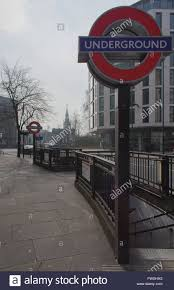London Underground: (72, 7, 169, 86)
